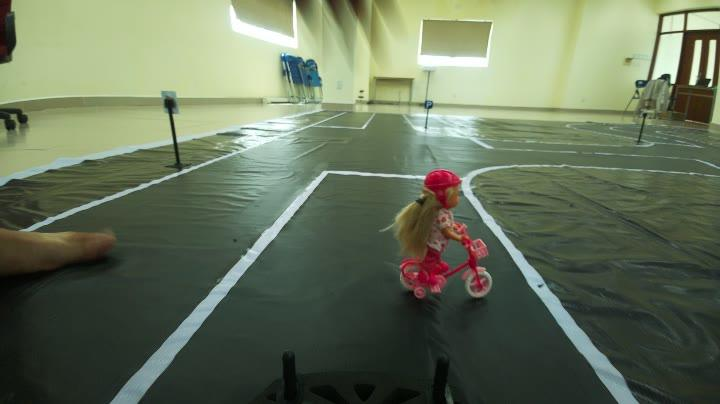pedestrian: (379, 160, 507, 298)
